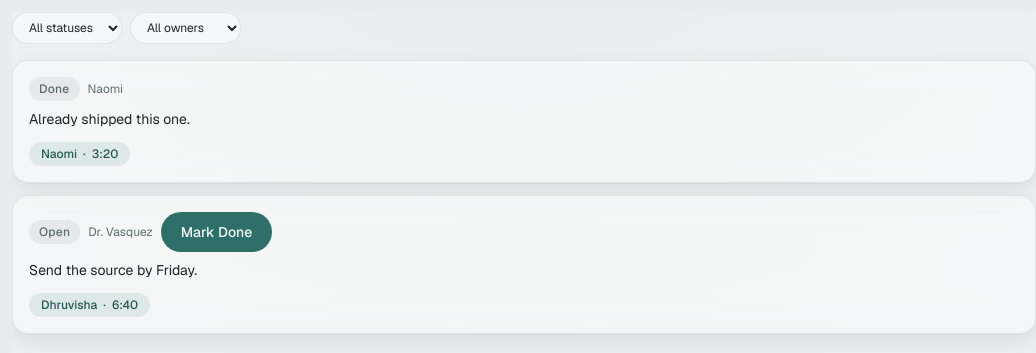
Test: MeetingTimeline › filters action items by owner
Expected: the text "Send the source by Friday." is shown, [29,261,197,279]
Select "Naomi" in the dropdown named "Filter action items by owner" at (186, 28), box [130,12,241,44]
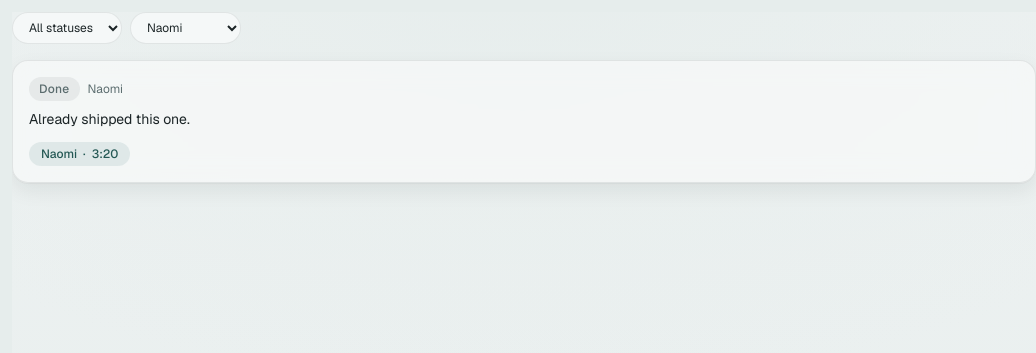
Expected: the text "Already shipped this one." is shown, [29,110,190,128]
Now the text "Send the source by Friday." is gone
